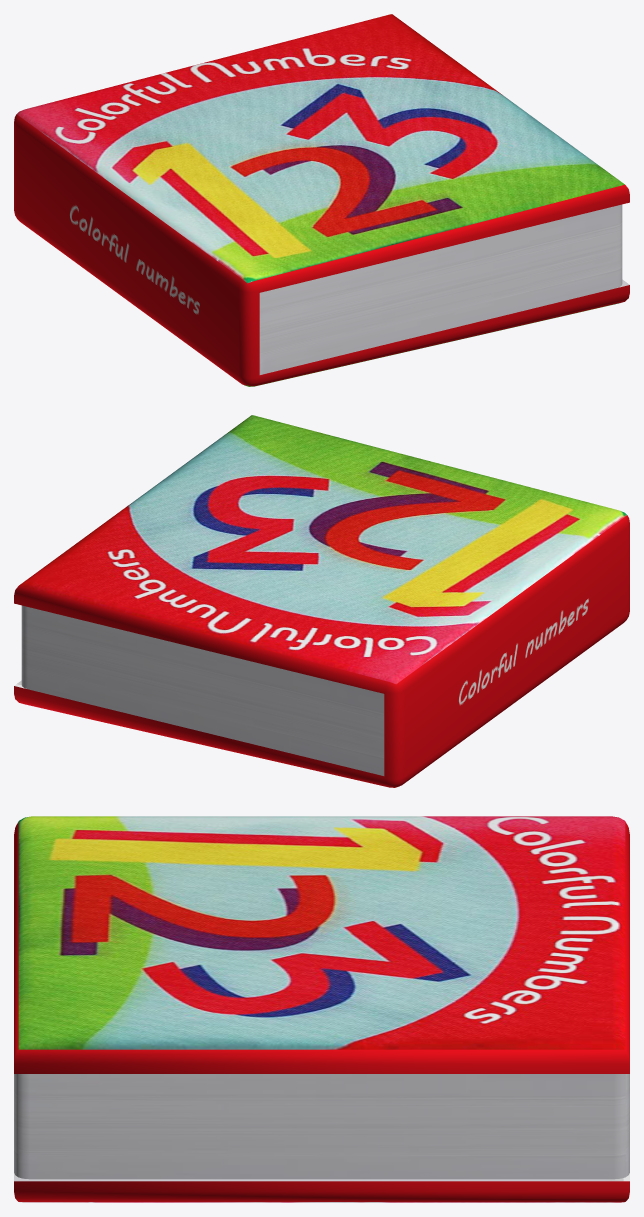
File: Book 4.fbx
3 views of the same model, one above another, from view 1: azimuth 30°, elevation 25°; view 2: azimuth 150°, elevation 25°; view 3: azimuth 270°, elevation 25° (orthographic). The views are drawn at different scales.
Parts seen in each view (by area): view 1: Book 4; view 2: Book 4; view 3: Book 4.
Part boxes in pixels (x1=…): Book 4: x1=14, y1=14, x2=629, y2=386; Book 4: x1=14, y1=415, x2=629, y2=787; Book 4: x1=14, y1=816, x2=629, y2=1202.
Bounding box in the file's own units: 97.62 × 29.94 × 104.
Materials: 1 (1 with a texture image).
